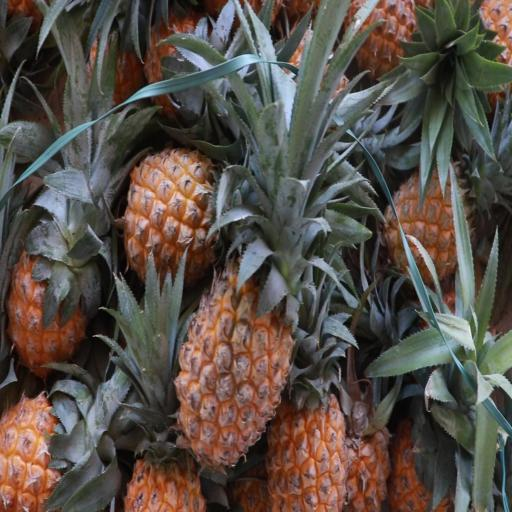Pineapple - v8 v1: (170, 232, 299, 476), (119, 139, 258, 299), (2, 211, 96, 383), (382, 157, 477, 300), (0, 383, 105, 511), (121, 366, 210, 512), (262, 367, 351, 512)
